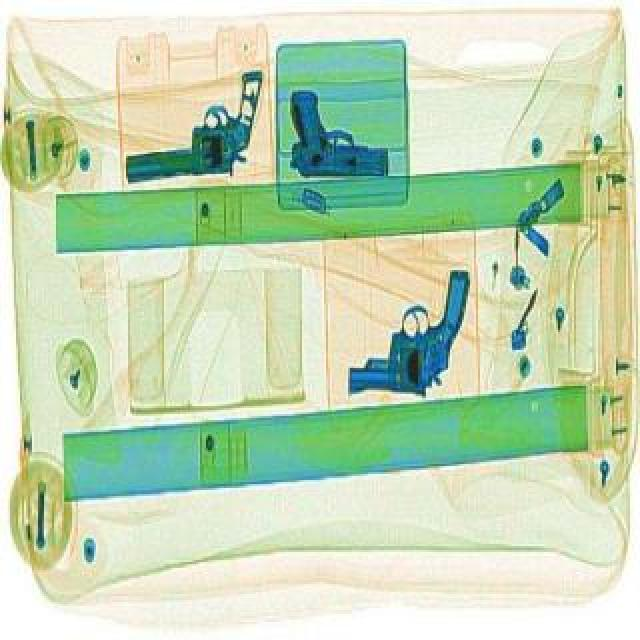gun: (118, 74, 270, 186), (344, 268, 470, 402), (288, 94, 390, 182)
